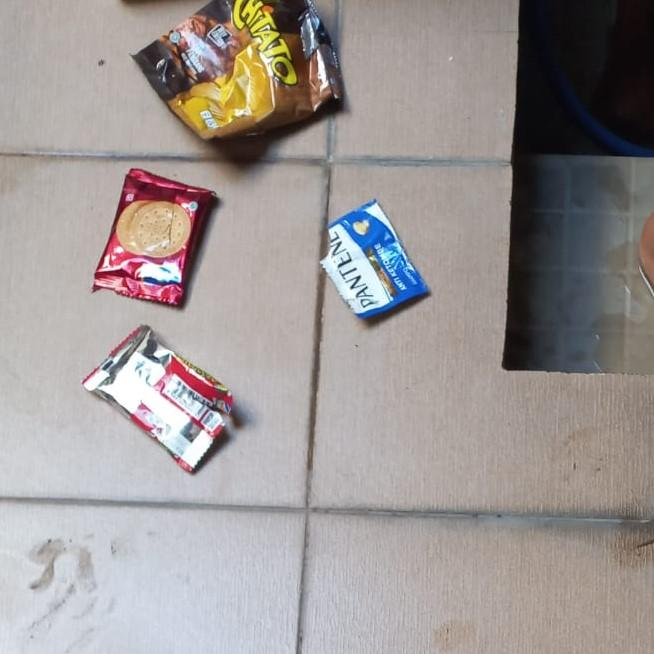Plastik: (128, 0, 346, 140), (81, 324, 234, 471), (91, 168, 216, 307), (319, 199, 431, 319)
